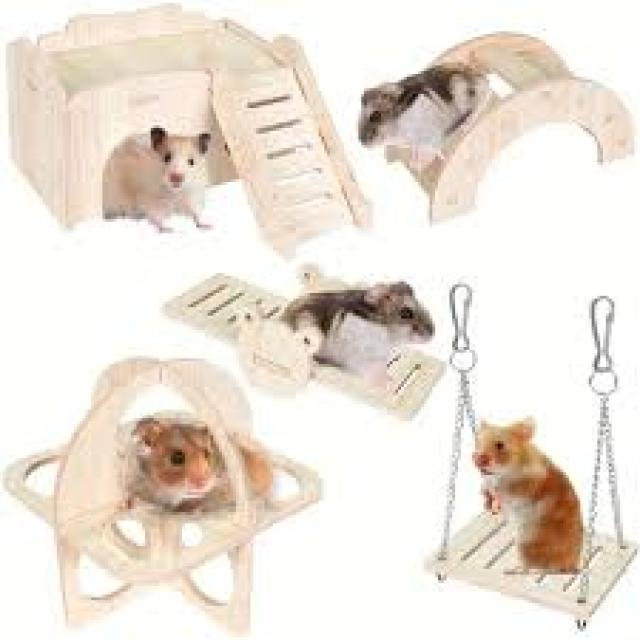rat: (356, 28, 634, 222), (469, 412, 583, 572), (114, 412, 273, 512), (279, 276, 432, 378), (100, 125, 214, 233)
